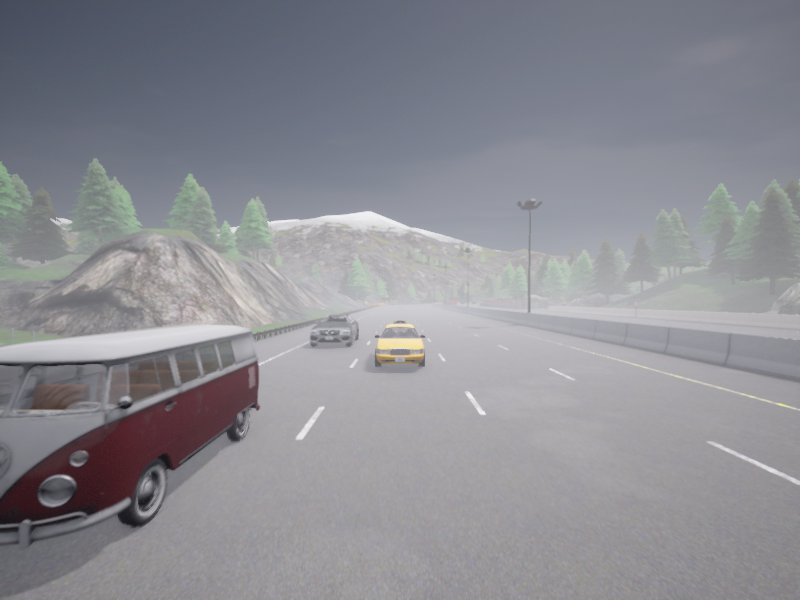vehicle: (0, 325, 259, 549), (374, 321, 425, 366), (310, 314, 358, 346), (451, 300, 456, 305), (472, 301, 477, 304), (461, 301, 465, 304), (443, 302, 447, 304), (448, 302, 450, 304)
